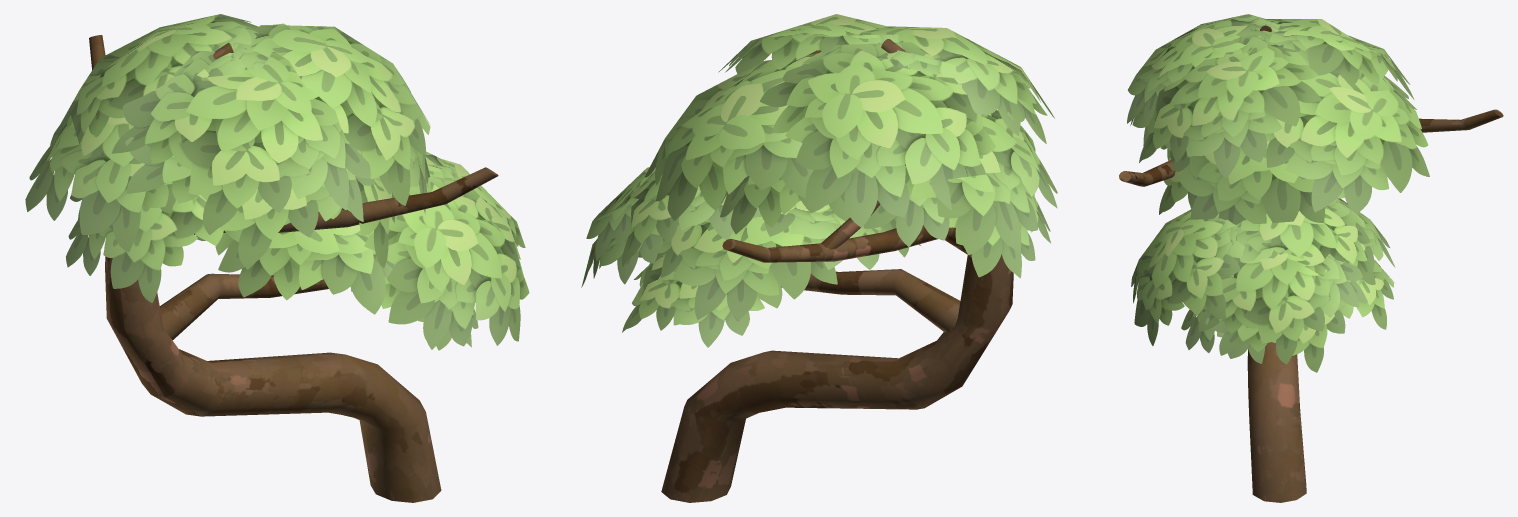
Rendered from tree_2.gltf.
The picture shows the model from 3 angles, left to right: view 1: azimuth 30°, elevation 25°; view 2: azimuth 150°, elevation 25°; view 3: azimuth 270°, elevation 25°; orthographic projection. The views are drawn at different scales.
Visible parts, largest first — view 1: Tree_10; view 2: Tree_10; view 3: Tree_10.
Boxes of the visible parts, left/top/right/bottom form: Tree_10: left=25, top=14, right=529, bottom=502; Tree_10: left=581, top=14, right=1057, bottom=502; Tree_10: left=1119, top=14, right=1503, bottom=502.
Bounding box in the file's own units: 4.28 × 4.35 × 3.98.
2 materials, 2 textured.
